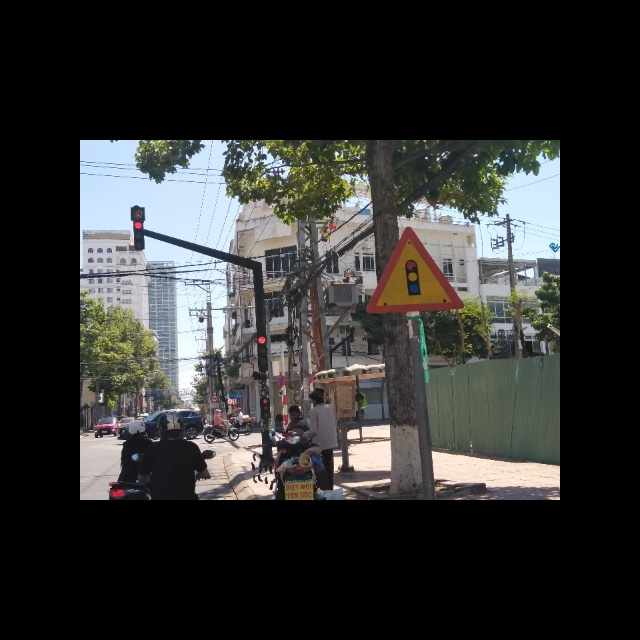Giao nhau có tín hiệu đèn: (369, 230, 464, 314)
Đèn đỏ: (257, 335, 267, 344)
